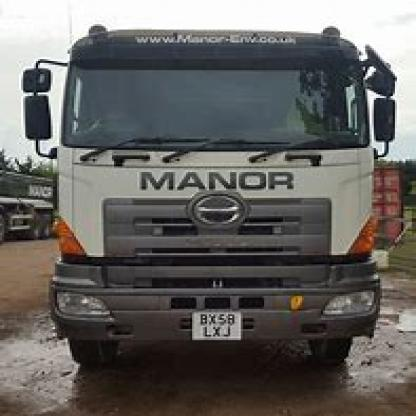dump_truck: (26, 11, 402, 377)
